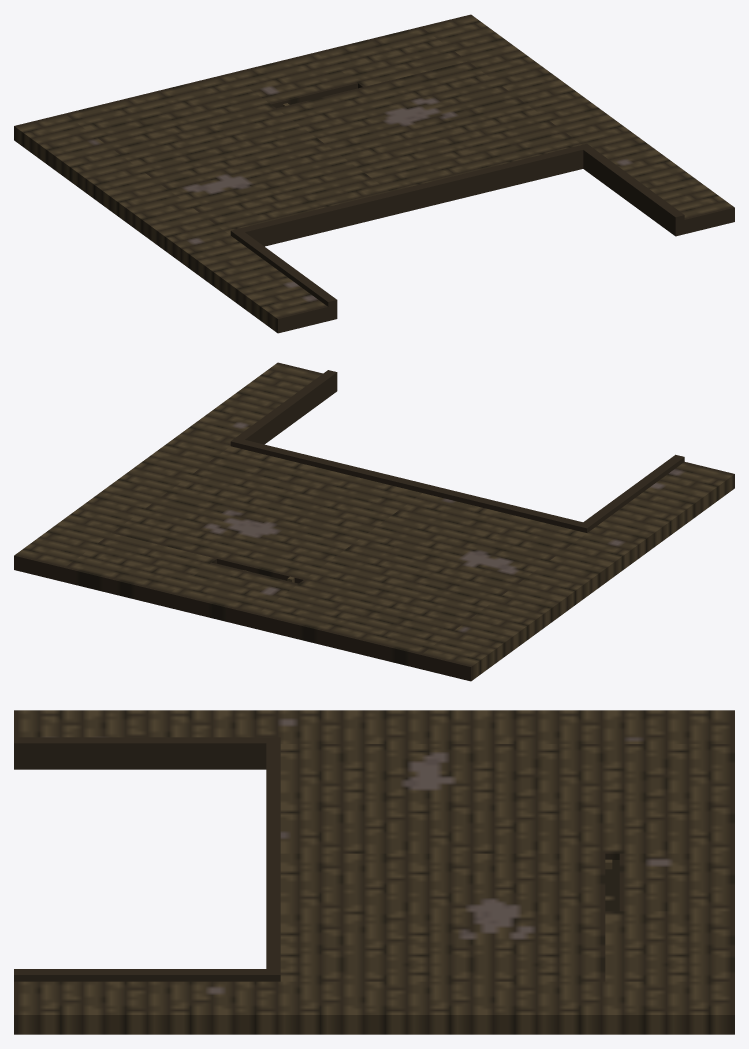
Rendered from Floor_BigHole_00.fbx.
3 views of the same model, one above another, from view 1: azimuth 30°, elevation 25°; view 2: azimuth 150°, elevation 25°; view 3: azimuth 270°, elevation 25° (orthographic). The views are drawn at different scales.
Visible parts, largest first — view 1: Floor_BigHole_00; view 2: Floor_BigHole_00; view 3: Floor_BigHole_00.
Boxes of the visible parts, x1,y1,x2,y2 form: Floor_BigHole_00: [14, 14, 734, 333]; Floor_BigHole_00: [14, 362, 734, 681]; Floor_BigHole_00: [14, 710, 734, 1034].
Size of the model in its own units: 500 by 20 by 500.
